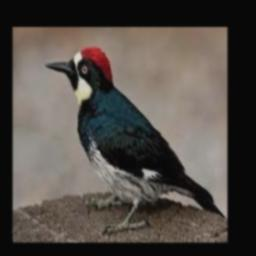Woodpecker: (44, 46, 225, 232)
